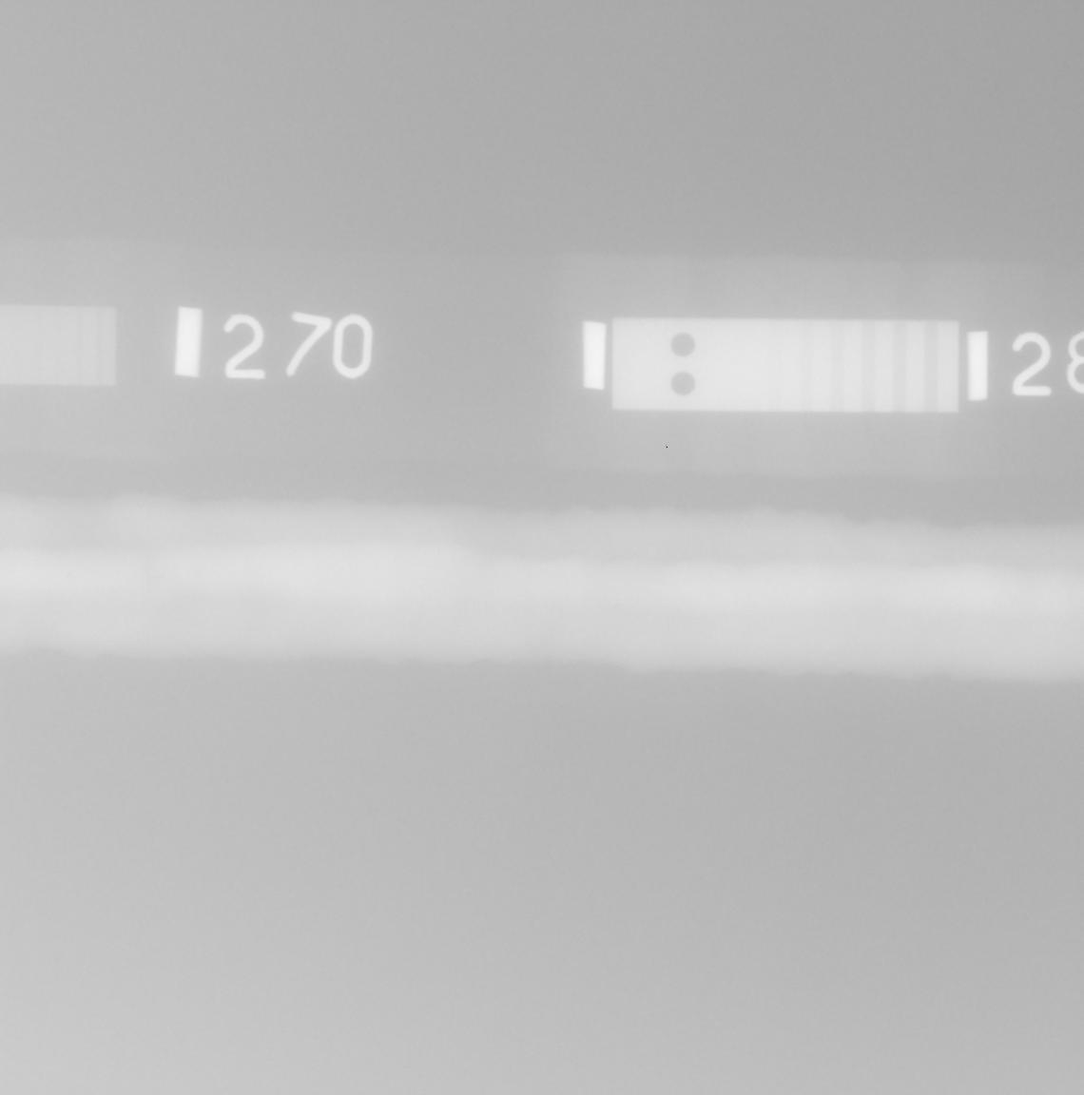Inclusion: (156, 574, 165, 579)
Pore/Porosity: (917, 608, 922, 612), (438, 517, 442, 521), (992, 601, 997, 604), (67, 575, 70, 578)
Reference Standard 2: (611, 319, 959, 412)
